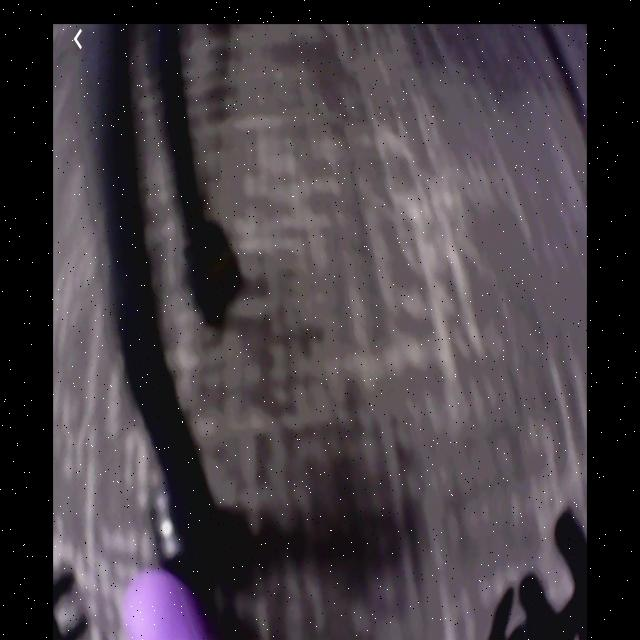ball: (123, 569, 210, 640)
